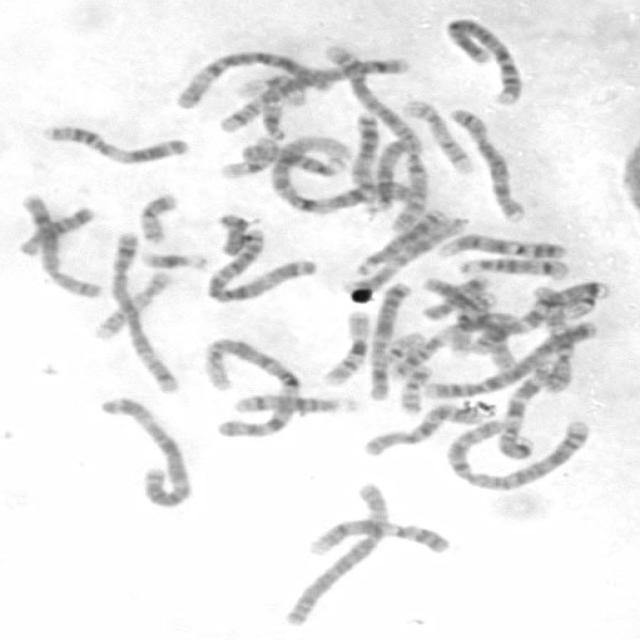A1: (262, 132, 422, 215), (198, 333, 305, 440)
A2: (322, 40, 428, 234), (440, 410, 596, 492)
A3: (95, 391, 197, 509), (202, 222, 321, 304)
B4: (416, 315, 602, 401), (441, 12, 526, 107)
B5: (209, 52, 413, 135), (104, 224, 183, 394)
C10: (357, 398, 487, 458), (528, 284, 578, 396)
C11: (391, 310, 517, 378), (36, 120, 193, 166)
C12: (420, 274, 524, 375), (358, 218, 474, 301)
C6: (277, 477, 392, 628), (174, 45, 321, 112)
C7: (470, 279, 615, 352), (491, 354, 559, 462)
C8: (444, 101, 530, 222), (14, 189, 105, 300)
C9: (300, 514, 454, 558), (433, 228, 570, 260)
D13: (349, 210, 466, 280), (343, 106, 395, 212)
D14: (228, 389, 363, 416), (454, 252, 574, 281)
D15: (360, 132, 420, 214), (237, 135, 351, 178)
E16: (317, 306, 373, 388), (216, 132, 280, 180)
E17: (88, 265, 175, 341), (397, 94, 475, 175)
E18: (13, 201, 98, 258), (420, 278, 492, 322)
F19: (446, 292, 505, 362), (232, 71, 310, 108)
F20: (134, 188, 182, 245), (394, 361, 434, 415)
G21: (136, 245, 212, 273), (257, 97, 289, 141)
G22: (380, 327, 427, 364), (562, 282, 602, 320)
X: (362, 278, 413, 402)
Y: (212, 208, 252, 258)
